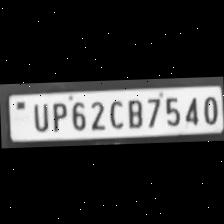0: (200, 92, 218, 124)
2: (86, 98, 106, 131)
4: (180, 93, 200, 126)
5: (160, 93, 180, 127)
6: (67, 98, 87, 132)
7: (142, 94, 160, 128)
B: (122, 96, 144, 129)
C: (104, 96, 124, 130)
P: (47, 99, 66, 131)
U: (28, 100, 50, 132)
